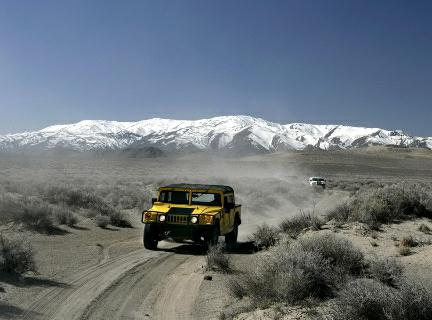红旗-H7: (138, 180, 247, 254)
